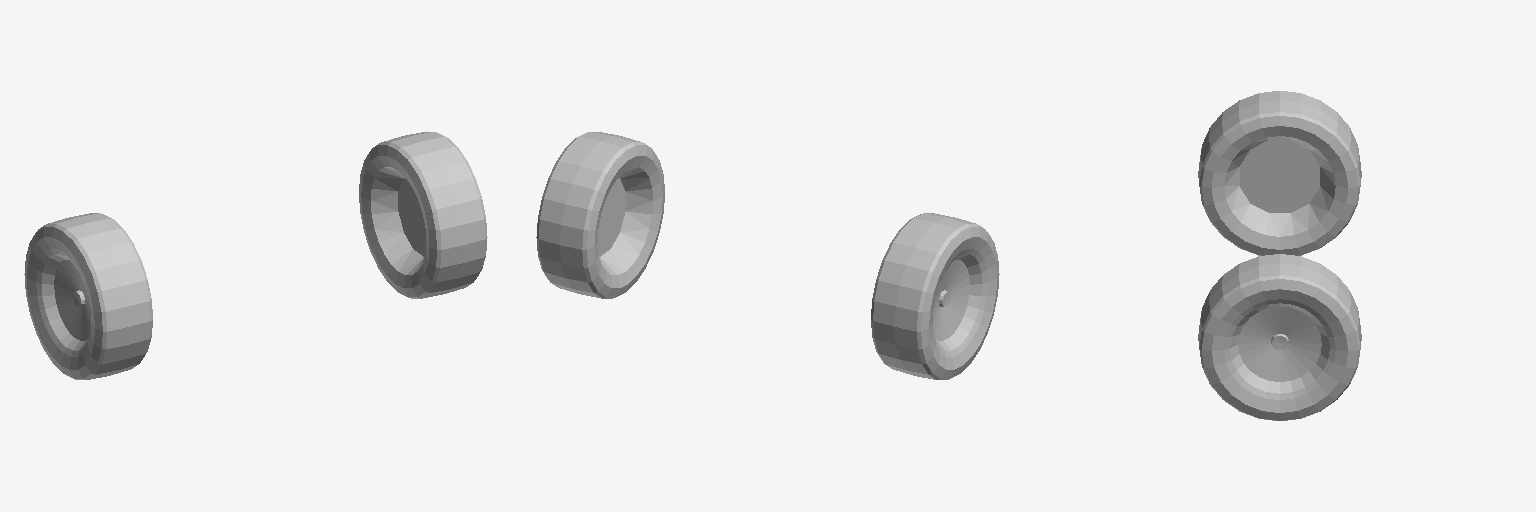
File: InterceptorRodas.obj
3 renders of one model, left to right at view 1: azimuth 30°, elevation 25°; view 2: azimuth 150°, elevation 25°; view 3: azimuth 270°, elevation 25°, orthographic.
Visible parts, largest first — view 1: InterceptorWheel.003, InterceptorWheel; view 2: InterceptorWheel.003, InterceptorWheel; view 3: InterceptorWheel.003, InterceptorWheel.
Part boxes in pixels (x1,y1,x2,y2): InterceptorWheel.003: (359, 132, 487, 298); InterceptorWheel: (24, 213, 152, 379); InterceptorWheel.003: (536, 132, 664, 298); InterceptorWheel: (871, 213, 999, 379); InterceptorWheel.003: (1198, 254, 1361, 420); InterceptorWheel: (1198, 91, 1361, 255).
Size of the model in its own units: 4.16 by 1.51 by 1.51.